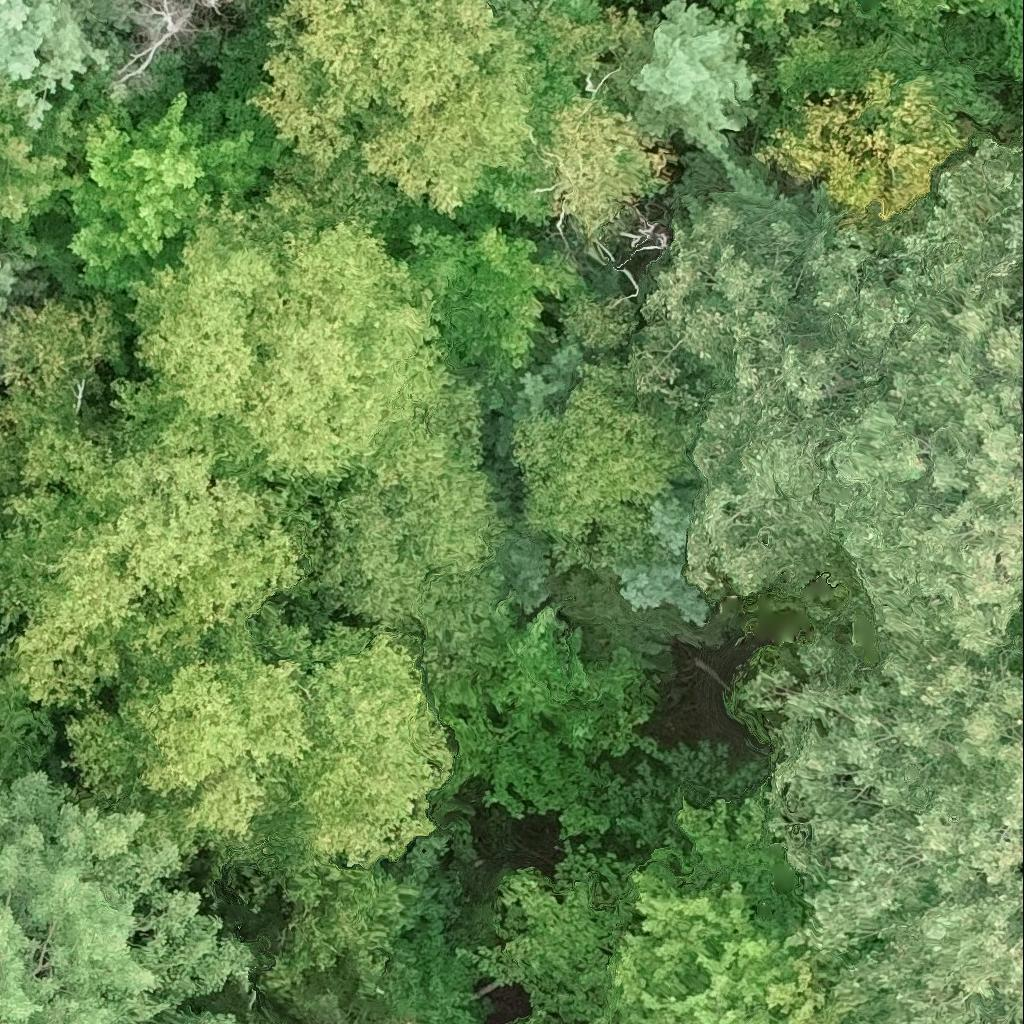crown: (0, 294, 338, 716), (466, 740, 870, 1023), (746, 635, 1023, 1023), (62, 611, 443, 891), (125, 176, 456, 494), (625, 204, 885, 595), (812, 198, 1023, 676), (255, 0, 644, 236), (284, 374, 517, 673), (0, 767, 253, 1023), (424, 608, 660, 840), (57, 92, 258, 291), (515, 365, 696, 568), (760, 81, 963, 223), (777, 0, 999, 127), (0, 69, 140, 259), (596, 0, 761, 161), (412, 224, 584, 367), (913, 138, 1023, 329), (0, 0, 122, 130), (550, 99, 665, 235), (685, 162, 841, 241), (116, 0, 216, 93), (0, 646, 51, 779), (975, 0, 1023, 116), (709, 0, 833, 35), (0, 254, 46, 329), (296, 994, 400, 1023), (887, 0, 975, 29), (619, 213, 669, 251), (498, 0, 531, 23), (187, 0, 236, 15), (572, 0, 581, 4)
